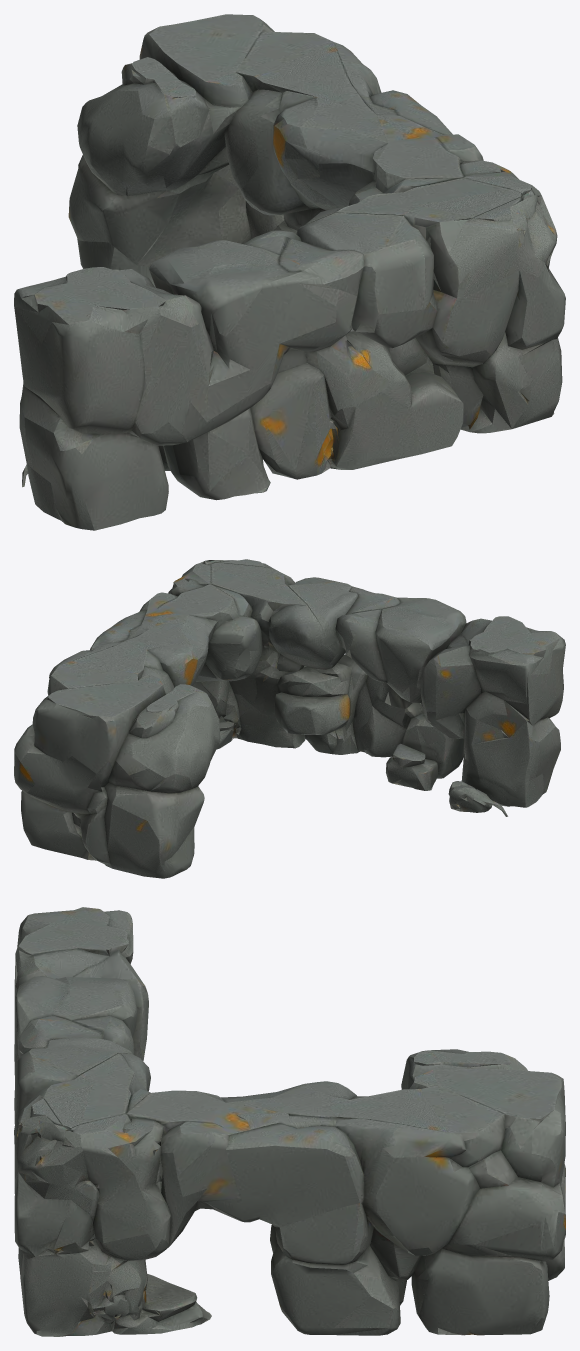
File: Rock_Arch_Tunnel.glb
3 renders of one model, top to bottom at view 1: azimuth 30°, elevation 25°; view 2: azimuth 150°, elevation 25°; view 3: azimuth 270°, elevation 25°, orthographic. The views are drawn at different scales.
Size of the model in its own units: 1.9 by 0.8041 by 1.9.
1 material, 1 textured.
